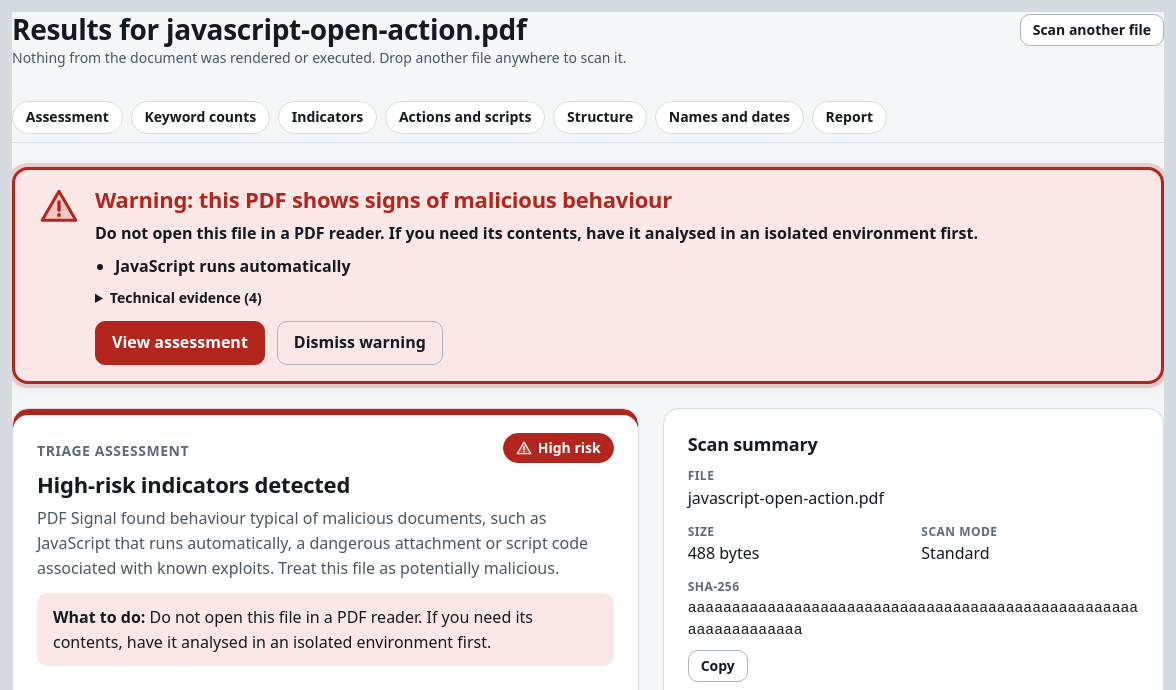
it: threat highlighting › can be dismissed
Click the button "Dismiss warning" at (360, 343), box [277,321,443,365]
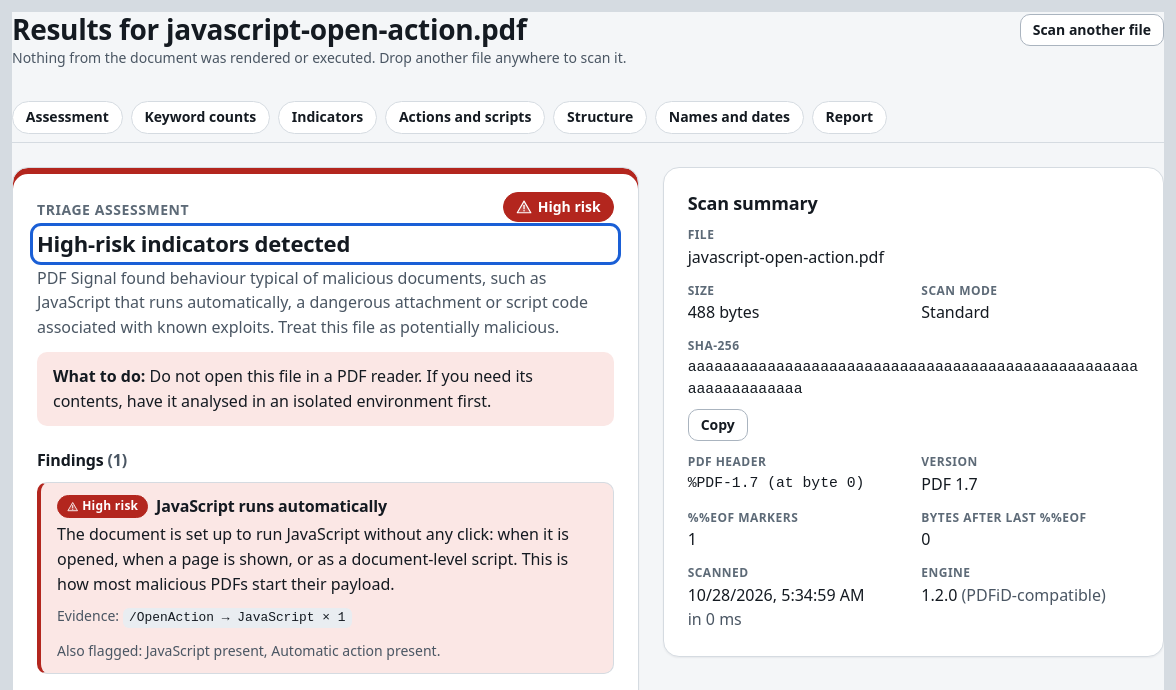
Now the element with test id "threat-alert" is gone
